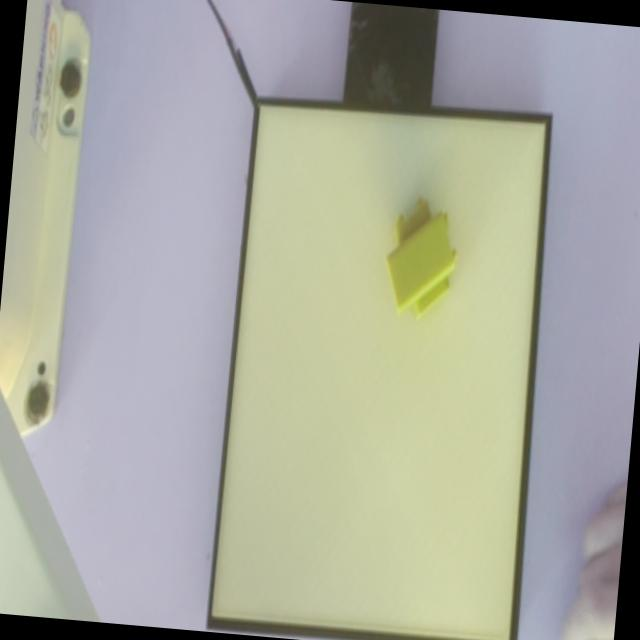bateria: (384, 209, 457, 313)
mesa: (206, 96, 554, 640)
